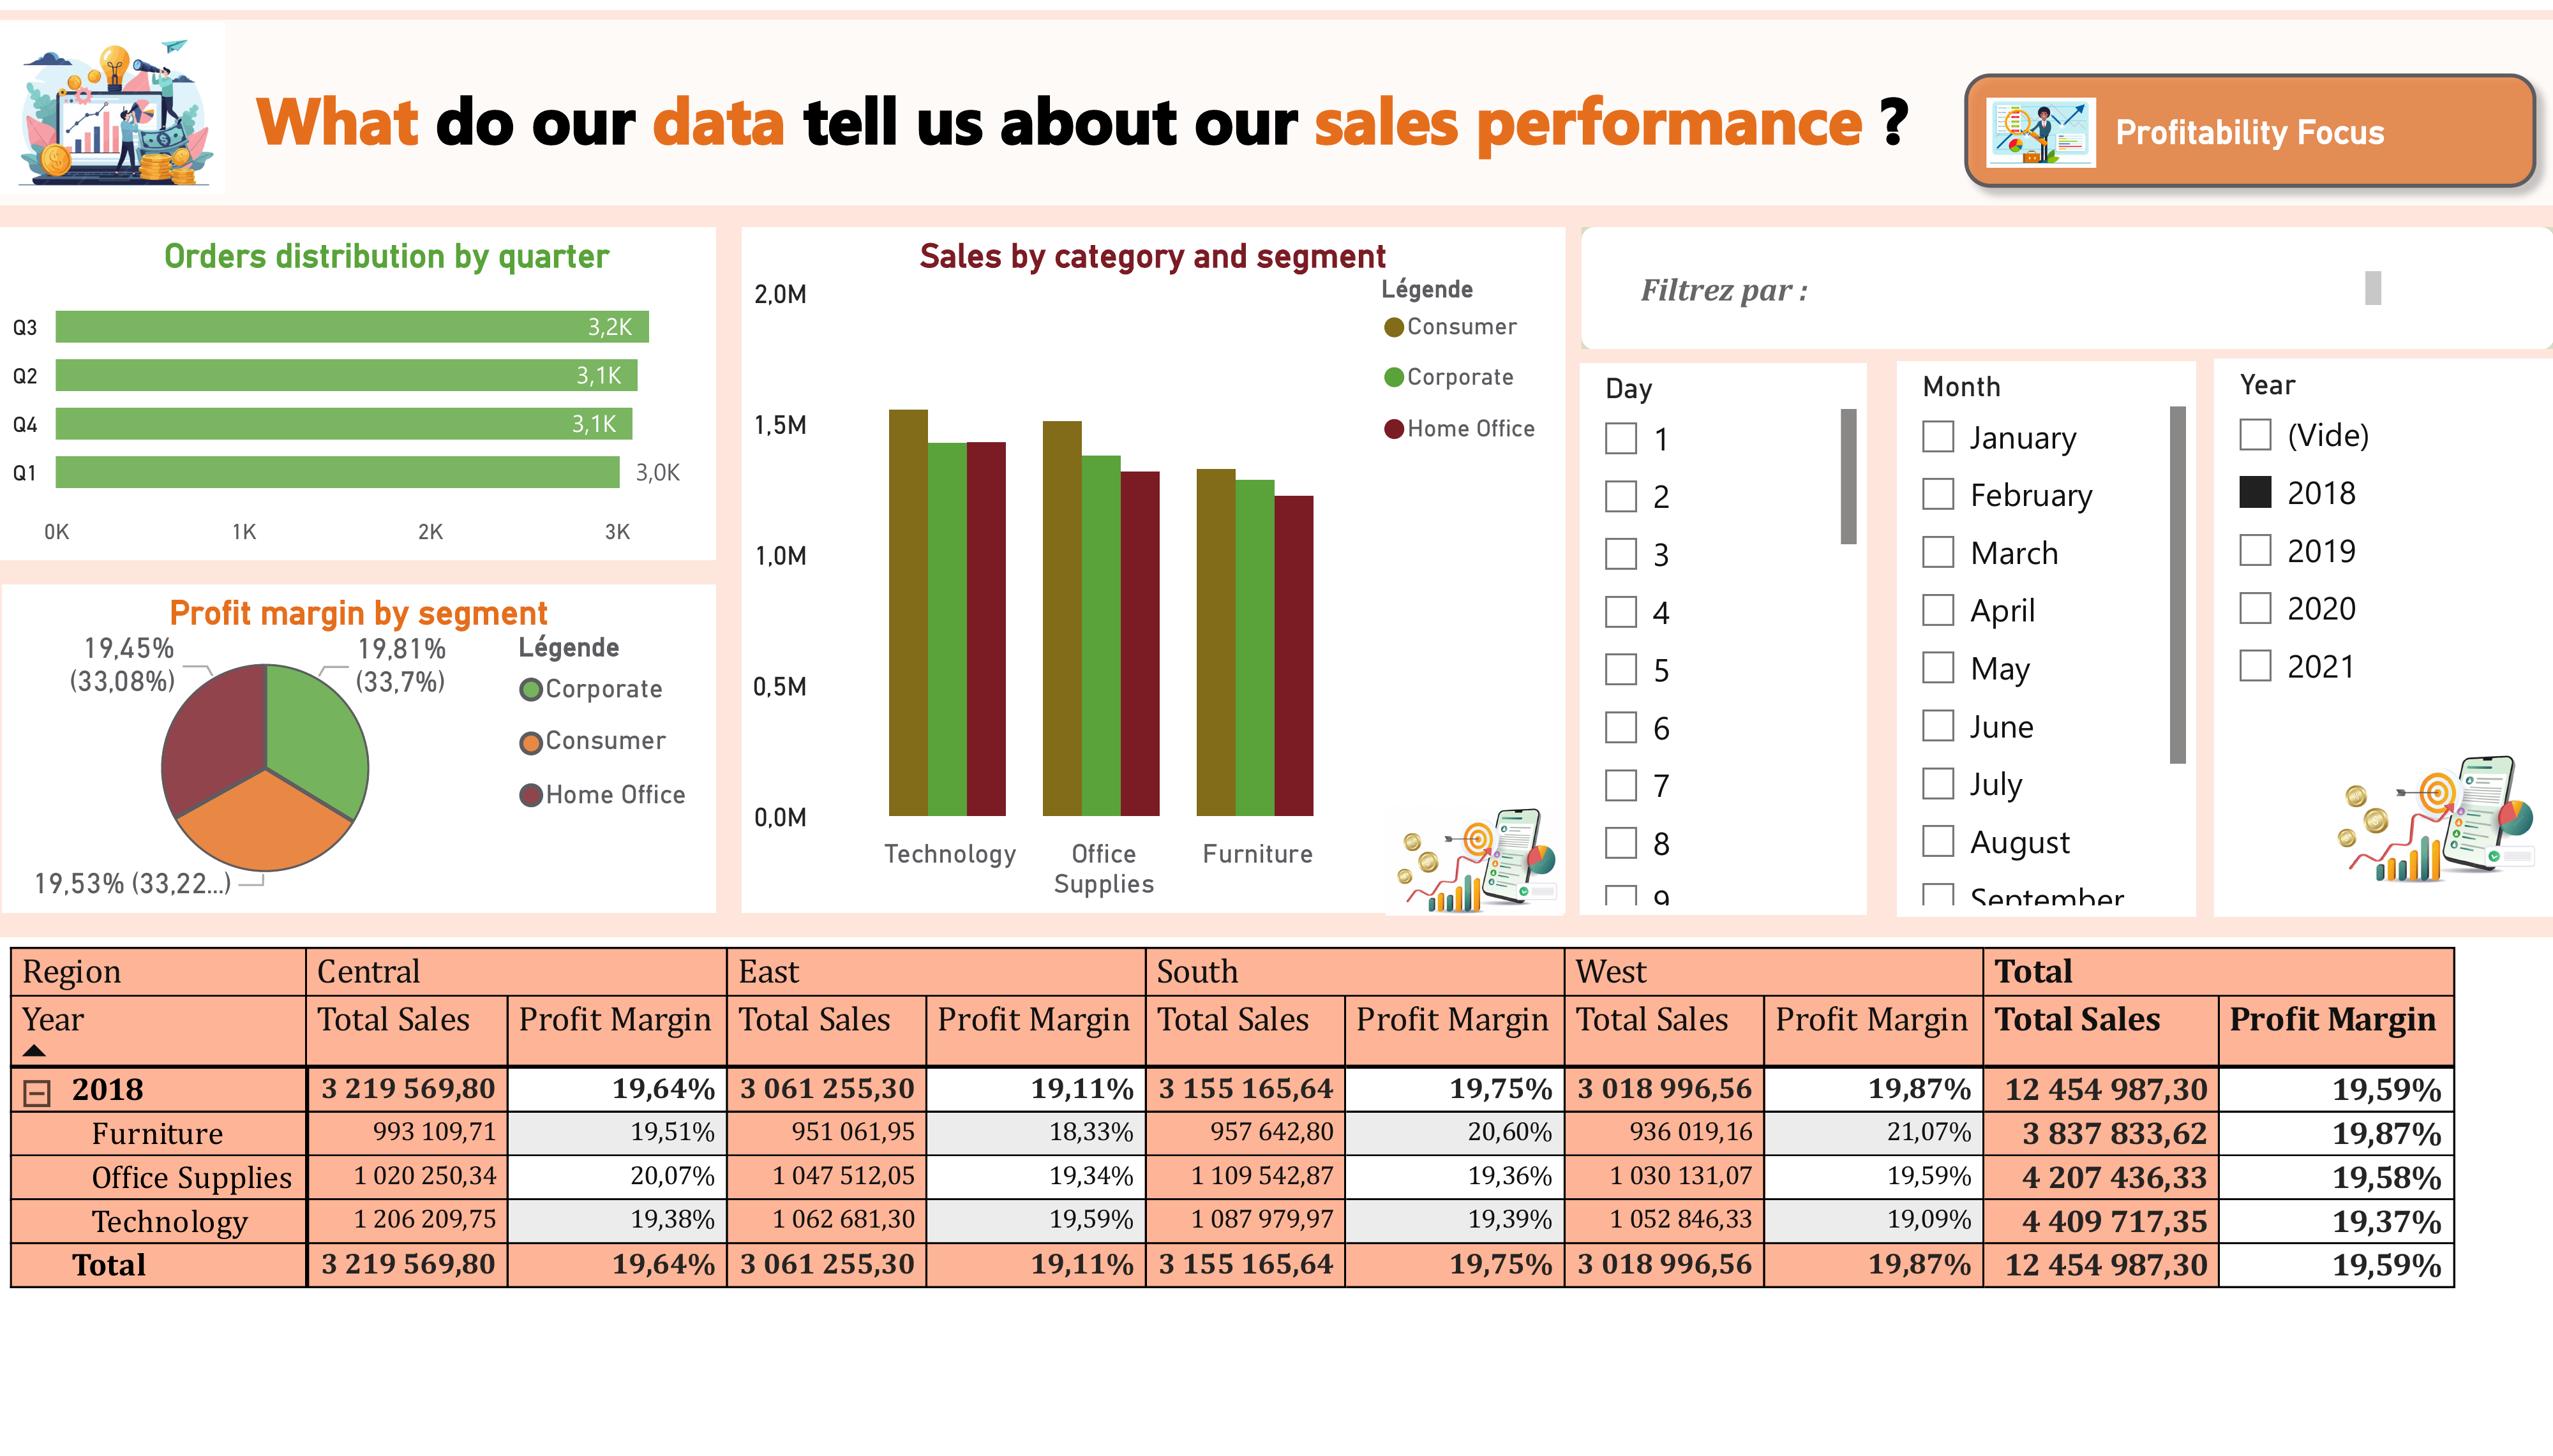

This screenshot's page, from the dashboard's own definition file:
{"tool":"powerbi","page":{"name":"MODEL 2","canvas":[1280,720],"ordinal":1},"visuals":[{"type":"group","id":"g1","title":"Groupe 1","box":[0,5.5,1280.3,92.9],"z":0},{"type":"textbox","box":[0,5.5,1280.3,92.9],"z":0,"group":"g1"},{"type":"shape","box":[792.6,108.3,487.5,61.2],"z":0,"group":"g3"},{"type":"slicer","fields":{"Values":["Date Table.Date.Variation.Date Hierarchy.Day"]},"box":[791.9,176.8,144.1,277.4],"z":0,"group":"g2"},{"type":"image","box":[0,0,113.4,98.4],"z":1000},{"type":"slicer","fields":{"Values":["Date Table.Date.Variation.Date Hierarchy.Month"]},"box":[950.5,175.6,150.1,278.6],"z":1000,"group":"g2"},{"type":"actionButton","box":[975.6,23.2,304.7,75.1],"z":2000},{"type":"slicer","fields":{"Values":["Date Table.Date.Variation.Date Hierarchy.Year"]},"box":[1110.2,174.4,170.5,279.8],"z":2000,"group":"g2"},{"type":"group","id":"g2","title":"Groupe 3","box":[791.9,16.6,488.9,437.5],"z":3000},{"type":"group","id":"g3","title":"Groupe 2","box":[792.6,108.3,487.5,60],"z":3000,"group":"g2"},{"type":"image","box":[1158.7,371.6,121.6,67],"z":4000},{"type":"textbox","box":[817.2,125.4,381,28.5],"z":4004,"group":"g3"},{"type":"pivotTable","fields":{"Rows":["Date Table.Year","Product Table.Category"],"Columns":["Custormer Table.Region"],"Values":["Measure.Total Sales","Measure.Profit Margin"]},"box":[0,464.6,1280.3,255.5],"z":5000},{"type":"clusteredColumnChart","title":" 💰 Sales by category and segment 💰","fields":{"Y":["Measure.Total Sales"],"Category":["Product Table.Category"],"Series":["Custormer Table.Segment"]},"box":[371.6,109.3,412.6,344.3],"z":6000},{"type":"pieChart","title":"💰 Profit margin by segment 💰","fields":{"Category":["Custormer Table.Segment"],"Y":["Measure.Profit Margin"]},"box":[1.4,288.3,358,165.3],"z":7000},{"type":"barChart","title":"💹 Orders distribution by quarter","fields":{"Y":["Measure.Total Orders"],"Category":["Date Table.Quarter"]},"box":[0,109.3,359.4,166.7],"z":8000},{"type":"image","box":[684.5,399,109.3,54.7],"z":9000},{"type":"image","box":[996,16.6,54.7,89.4],"z":9501,"group":"g2"}]}

Visuals, with their boxes in screenshot pixels (x1, y1, x2, y2), scaled from the page's 1280x720 canvas onto the 2553x1456 screenshot:
"Groupe 1" group: BBox(0, 11, 2552, 199)
textbox: BBox(0, 11, 2552, 199)
shape: BBox(1581, 219, 2552, 343)
slicer - Date Table.Date.Variation.Date Hierarchy.Day: BBox(1580, 357, 1867, 919)
image: BBox(0, 0, 226, 199)
slicer - Date Table.Date.Variation.Date Hierarchy.Month: BBox(1896, 355, 2195, 919)
actionButton: BBox(1946, 47, 2552, 199)
slicer - Date Table.Date.Variation.Date Hierarchy.Year: BBox(2214, 353, 2552, 919)
"Groupe 3" group: BBox(1580, 34, 2552, 918)
"Groupe 2" group: BBox(1581, 219, 2552, 340)
image: BBox(2311, 752, 2552, 887)
textbox: BBox(1630, 253, 2390, 311)
pivotTable - Date Table.Year x Product Table.Category: BBox(0, 940, 2552, 1455)
" 💰 Sales by category and segment 💰" clusteredColumnChart: BBox(741, 221, 1564, 917)
"💰 Profit margin by segment 💰" pieChart: BBox(3, 583, 717, 917)
"💹 Orders distribution by quarter" barChart: BBox(0, 221, 717, 558)
image: BBox(1365, 807, 1583, 917)
image: BBox(1986, 34, 2095, 214)
